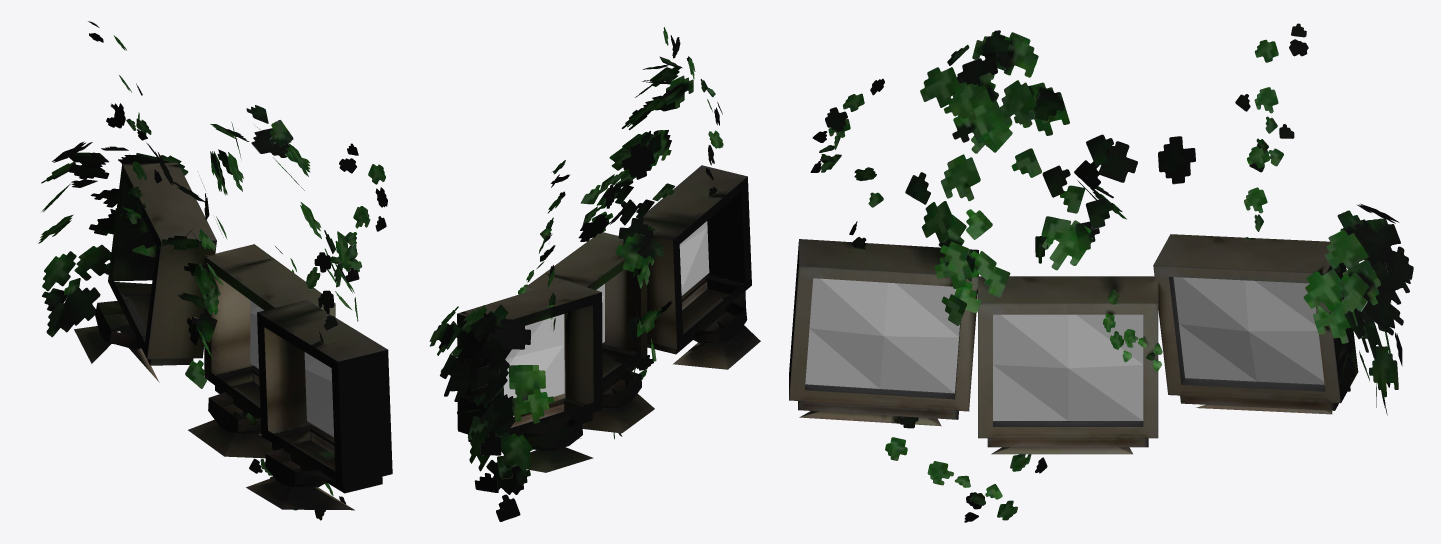
The model's file is Leafs-transformed.glb.
3 views of the same model, side by side, from view 1: azimuth 30°, elevation 25°; view 2: azimuth 150°, elevation 25°; view 3: azimuth 270°, elevation 25° (orthographic). The views are drawn at different scales.
Parts seen in each view (by area): view 1: Monitors, Leaf, Screen_Left, Screen_Center; view 2: Monitors, Leaf, Screen_Right, Screen_Left; view 3: Monitors, Leaf, Screen_Left, Screen_Center, Screen_Right.
Part boxes in pixels (left/top/right/bottom): Monitors: left=74, top=162, right=392, bottom=510; Leaf: left=38, top=21, right=387, bottom=520; Screen_Left: left=304, top=352, right=333, bottom=436; Screen_Center: left=250, top=300, right=263, bottom=368; Monitors: left=457, top=165, right=760, bottom=472; Leaf: left=429, top=27, right=723, bottom=521; Screen_Right: left=503, top=314, right=564, bottom=397; Screen_Left: left=679, top=221, right=709, bottom=295; Monitors: left=789, top=234, right=1358, bottom=454; Leaf: left=810, top=23, right=1413, bottom=522; Screen_Left: left=805, top=278, right=959, bottom=393; Screen_Center: left=993, top=314, right=1143, bottom=420; Screen_Right: left=1173, top=277, right=1324, bottom=384.
Bounding box in the file's own units: 1.27 × 2.9 × 3.47.
Materials: 1 (1 with a texture image).
